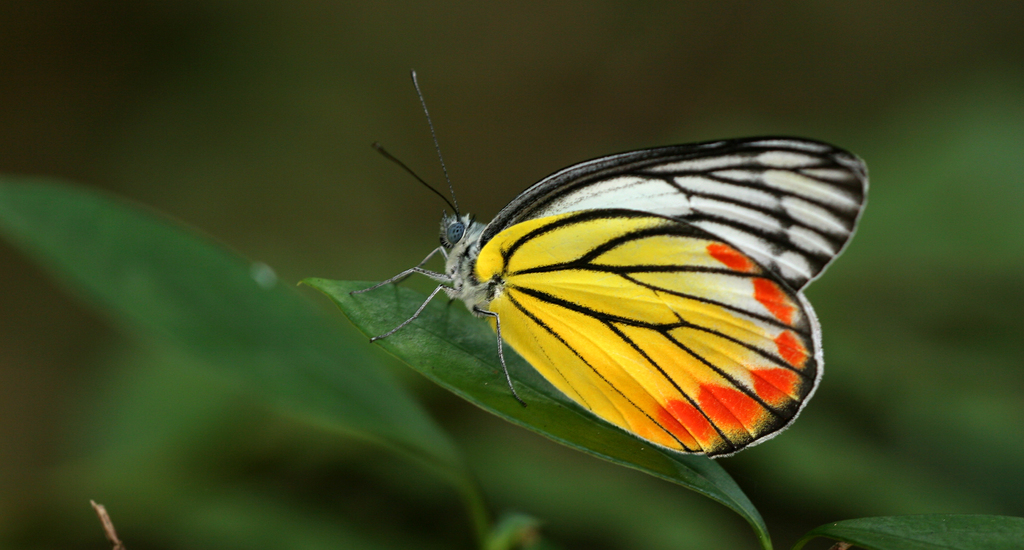Butterfly: (374, 74, 877, 463)
